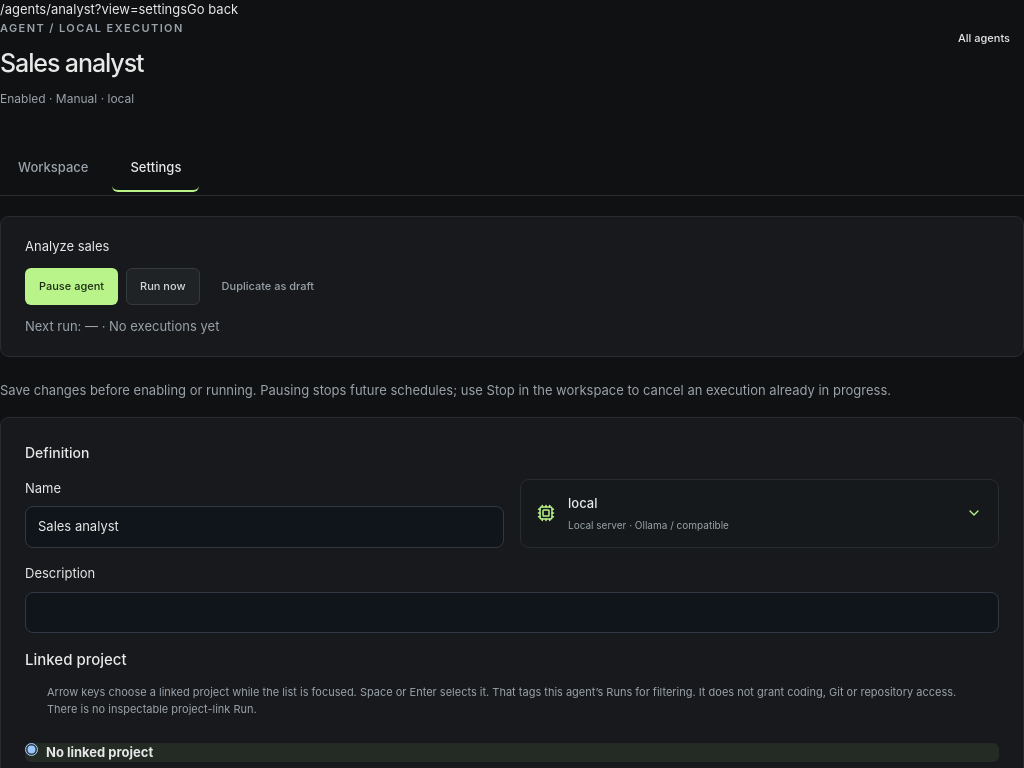
Test: queues Run now once and stays on the agent workspace with Stop available
The width and height of the screenshot is (1024, 768).
Expected: the heading "Definition" is shown, [25,444,89,461]
Click the button "Run now" at [163, 286], box [126,268,200,305]
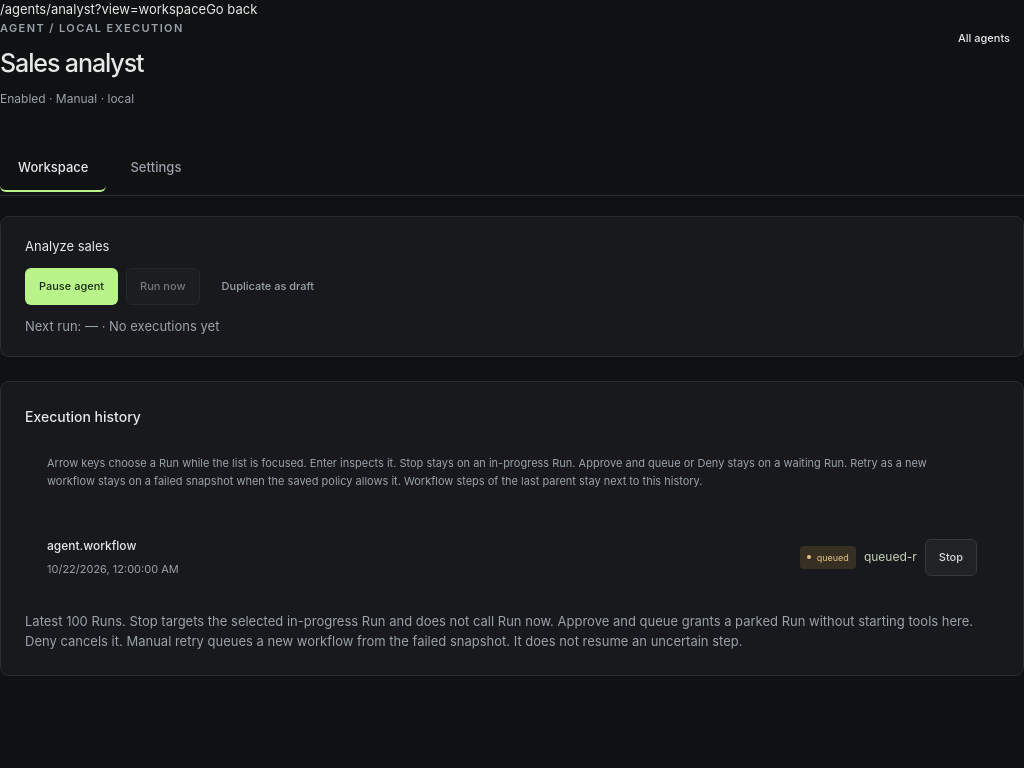
Result: the button with aria-label "Stop agent.workflow queued-r" is shown at [925,539,977,576]
Result: the text named "Current location" reads "/agents/analyst?view=workspace" at [0,1,206,17]
